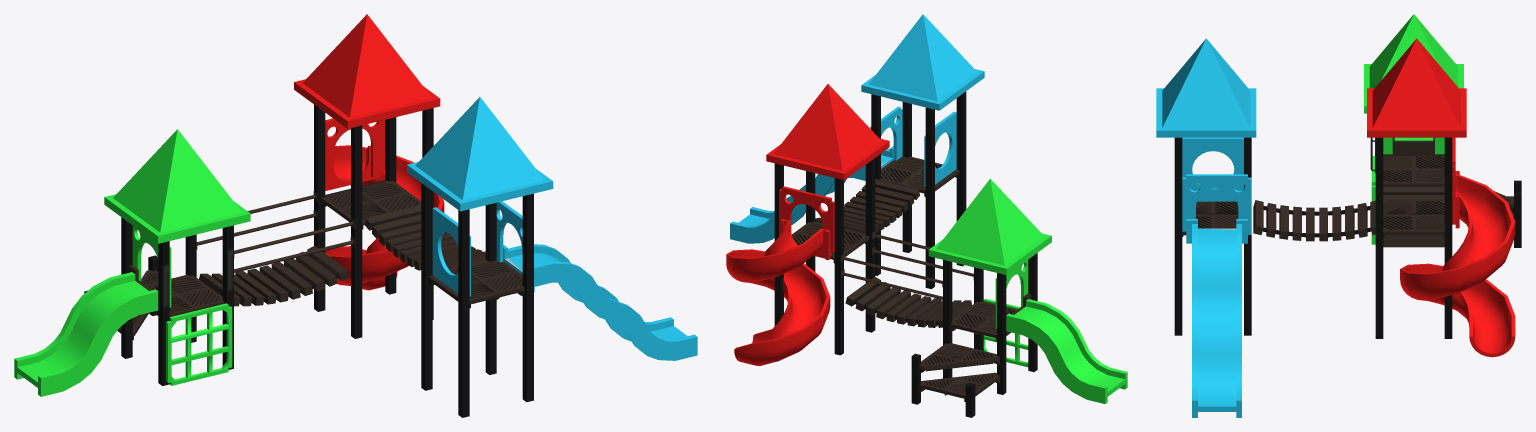
File: MSH_Resbaladilla.FBX
3 renders of one model, left to right at view 1: azimuth 30°, elevation 25°; view 2: azimuth 150°, elevation 25°; view 3: azimuth 270°, elevation 25°, orthographic. The views are drawn at different scales.
Visible parts, largest first — view 1: MSH_Resbaladilla; view 2: MSH_Resbaladilla; view 3: MSH_Resbaladilla.
Part boxes in pixels (<box>): MSH_Resbaladilla: <box>14,14,697,417</box>; MSH_Resbaladilla: <box>726,14,1127,417</box>; MSH_Resbaladilla: <box>1156,14,1521,417</box>.
Bounding box in the file's own units: 541 × 294 × 333.
